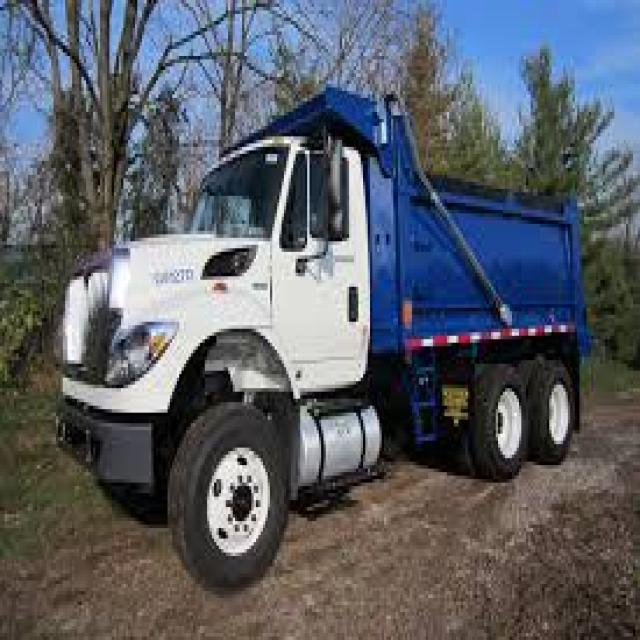dump_truck: (58, 83, 586, 588)
